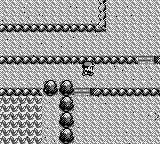captura: (1, 96, 43, 143)
main: (81, 61, 95, 76)
no-caminable: (42, 79, 74, 143)
salto: (1, 0, 106, 32), (0, 56, 137, 64), (91, 88, 160, 95), (1, 88, 41, 95), (155, 56, 160, 63)
